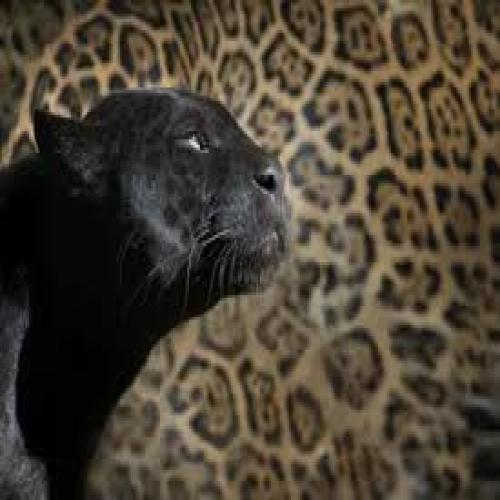panther-endangered: (0, 76, 291, 499)
